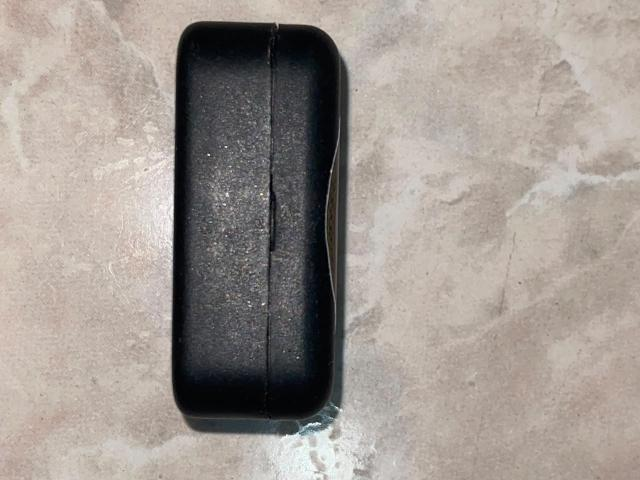HDPE: (165, 18, 361, 427)
